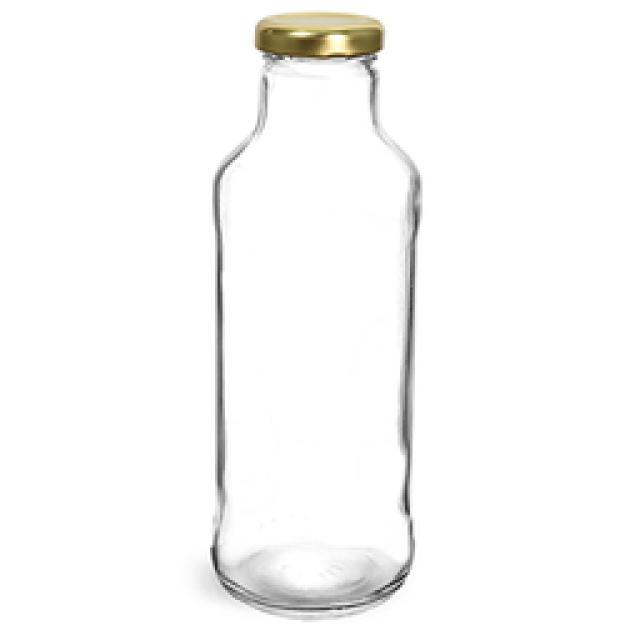glass_beverage_bottles: (210, 9, 418, 624)
